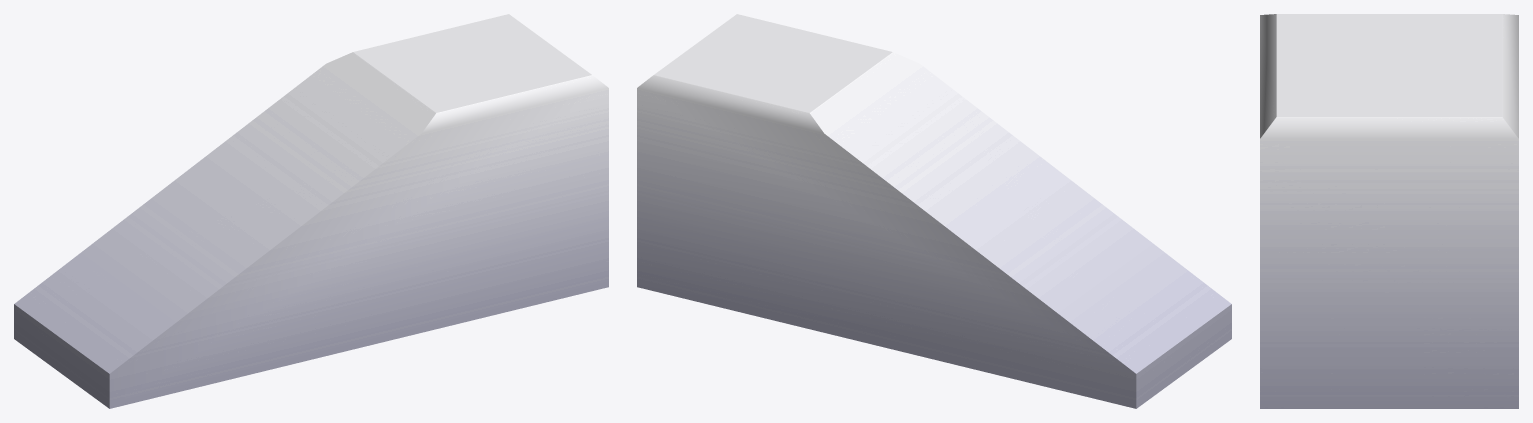
Rendered from brick-kit--none-hq-brick-slope-3x1.glb.
3 views of the same model, side by side, from view 1: azimuth 30°, elevation 25°; view 2: azimuth 150°, elevation 25°; view 3: azimuth 270°, elevation 25° (orthographic). The views are drawn at different scales.
Visible parts, largest first — view 1: none-hq-brick-slope-3x1; view 2: none-hq-brick-slope-3x1; view 3: none-hq-brick-slope-3x1.
Boxes of the visible parts, x1=… form: none-hq-brick-slope-3x1: x1=14, y1=14, x2=608, y2=408; none-hq-brick-slope-3x1: x1=637, y1=14, x2=1231, y2=408; none-hq-brick-slope-3x1: x1=1260, y1=14, x2=1518, y2=408.
Size of the model in its own units: 0.2385 by 0.096 by 0.079.
1 material, 1 textured.
